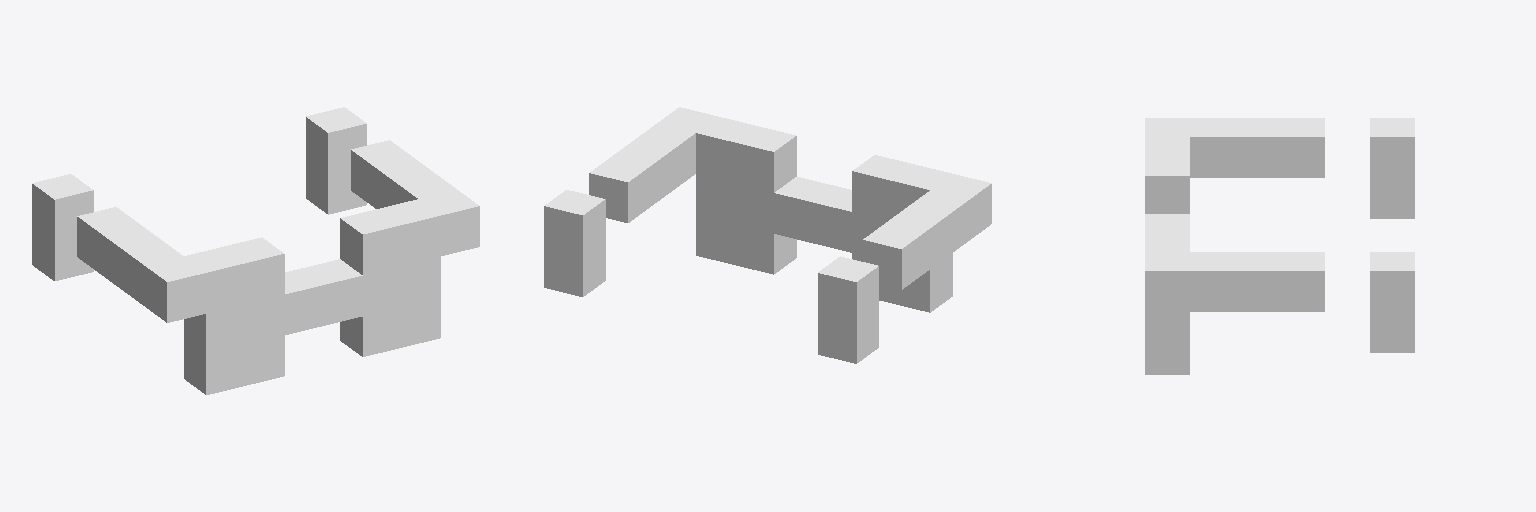
Rendered from shades.obj.
The picture shows the model from 3 angles: view 1: azimuth 30°, elevation 25°; view 2: azimuth 150°, elevation 25°; view 3: azimuth 270°, elevation 25°; orthographic projection.
Visible parts, largest first — view 1: object 1; view 2: object 1; view 3: object 1.
Boxes of the visible parts, x1=… form: object 1: x1=32, y1=107, x2=479, y2=394; object 1: x1=544, y1=107, x2=991, y2=363; object 1: x1=1145, y1=118, x2=1414, y2=374.
Bounding box in the file's own units: 0.8 × 0.3 × 0.6.